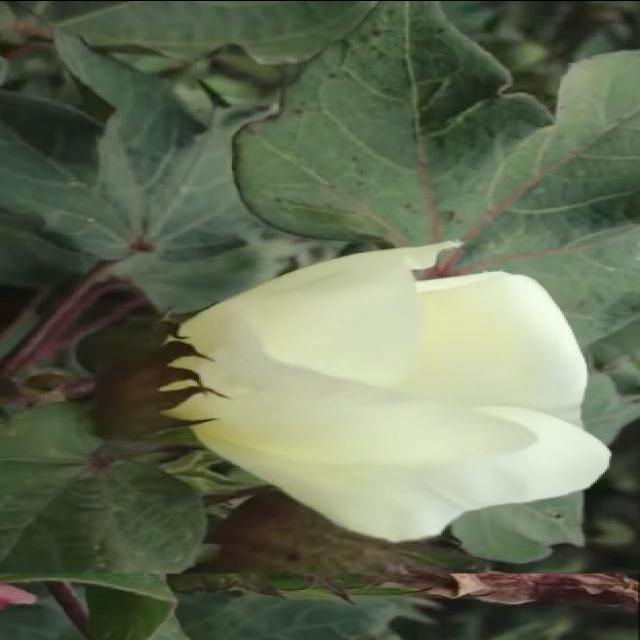Cotton Blossom: (112, 234, 610, 546)
